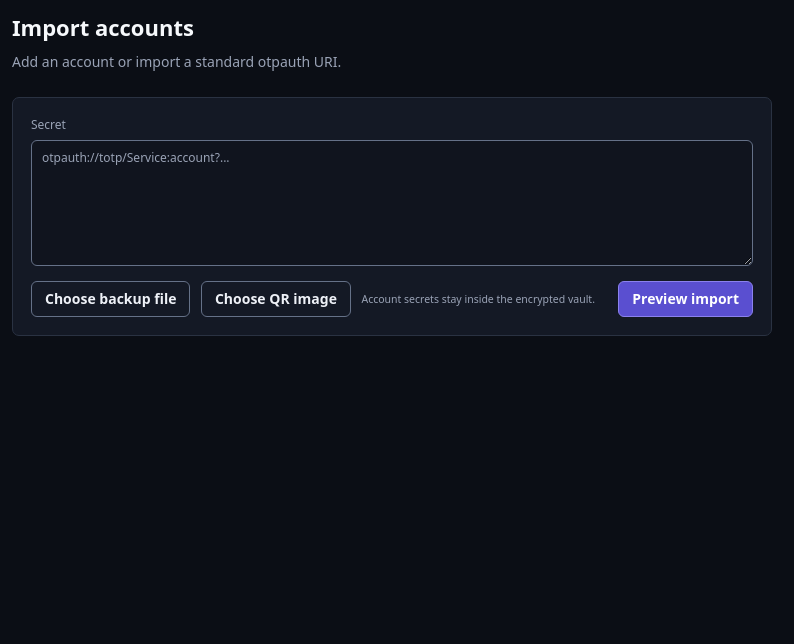
Scenario: import preview sources › previews paste input and selects only new entries
The width and height of the screenshot is (794, 644).
Step 1. Type "otpauth-migration://offline?data=sample" into the text box labelled "Secret" → coordinates (392, 203), box [31, 140, 753, 266]
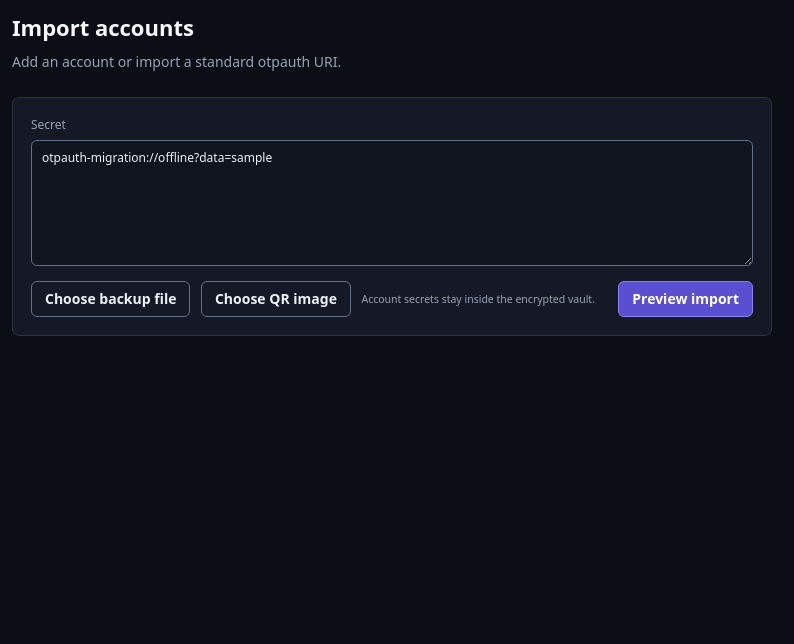
Step 2. Click the button "Preview import" → coordinates (686, 299), box [618, 281, 753, 317]
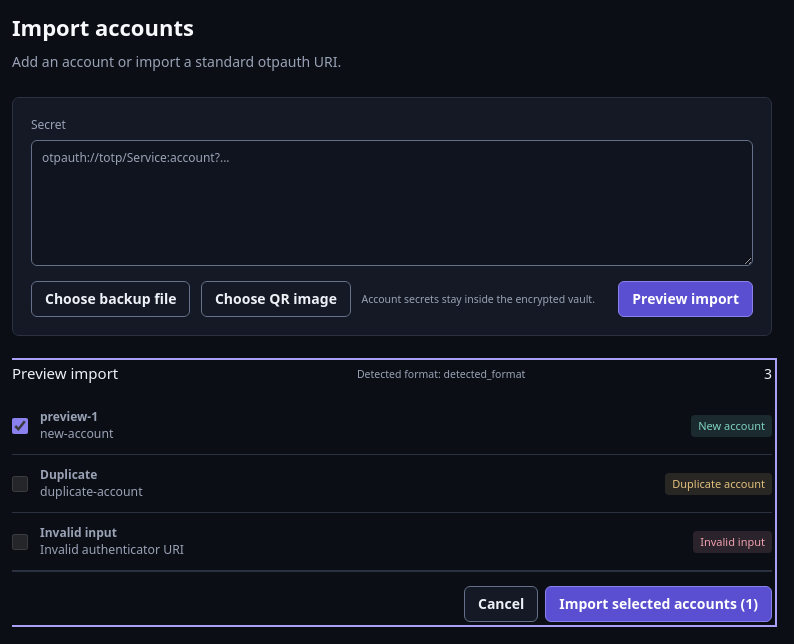
Now the checkbox labelled "preview-1 new-account New account" is checked, box [12, 418, 28, 434]
Now the checkbox labelled "Duplicate duplicate-account Duplicate account" is disabled, box [12, 476, 28, 492]
Now the checkbox labelled "Invalid input Invalid authenticator URI Invalid input" is disabled, box [12, 534, 28, 550]
